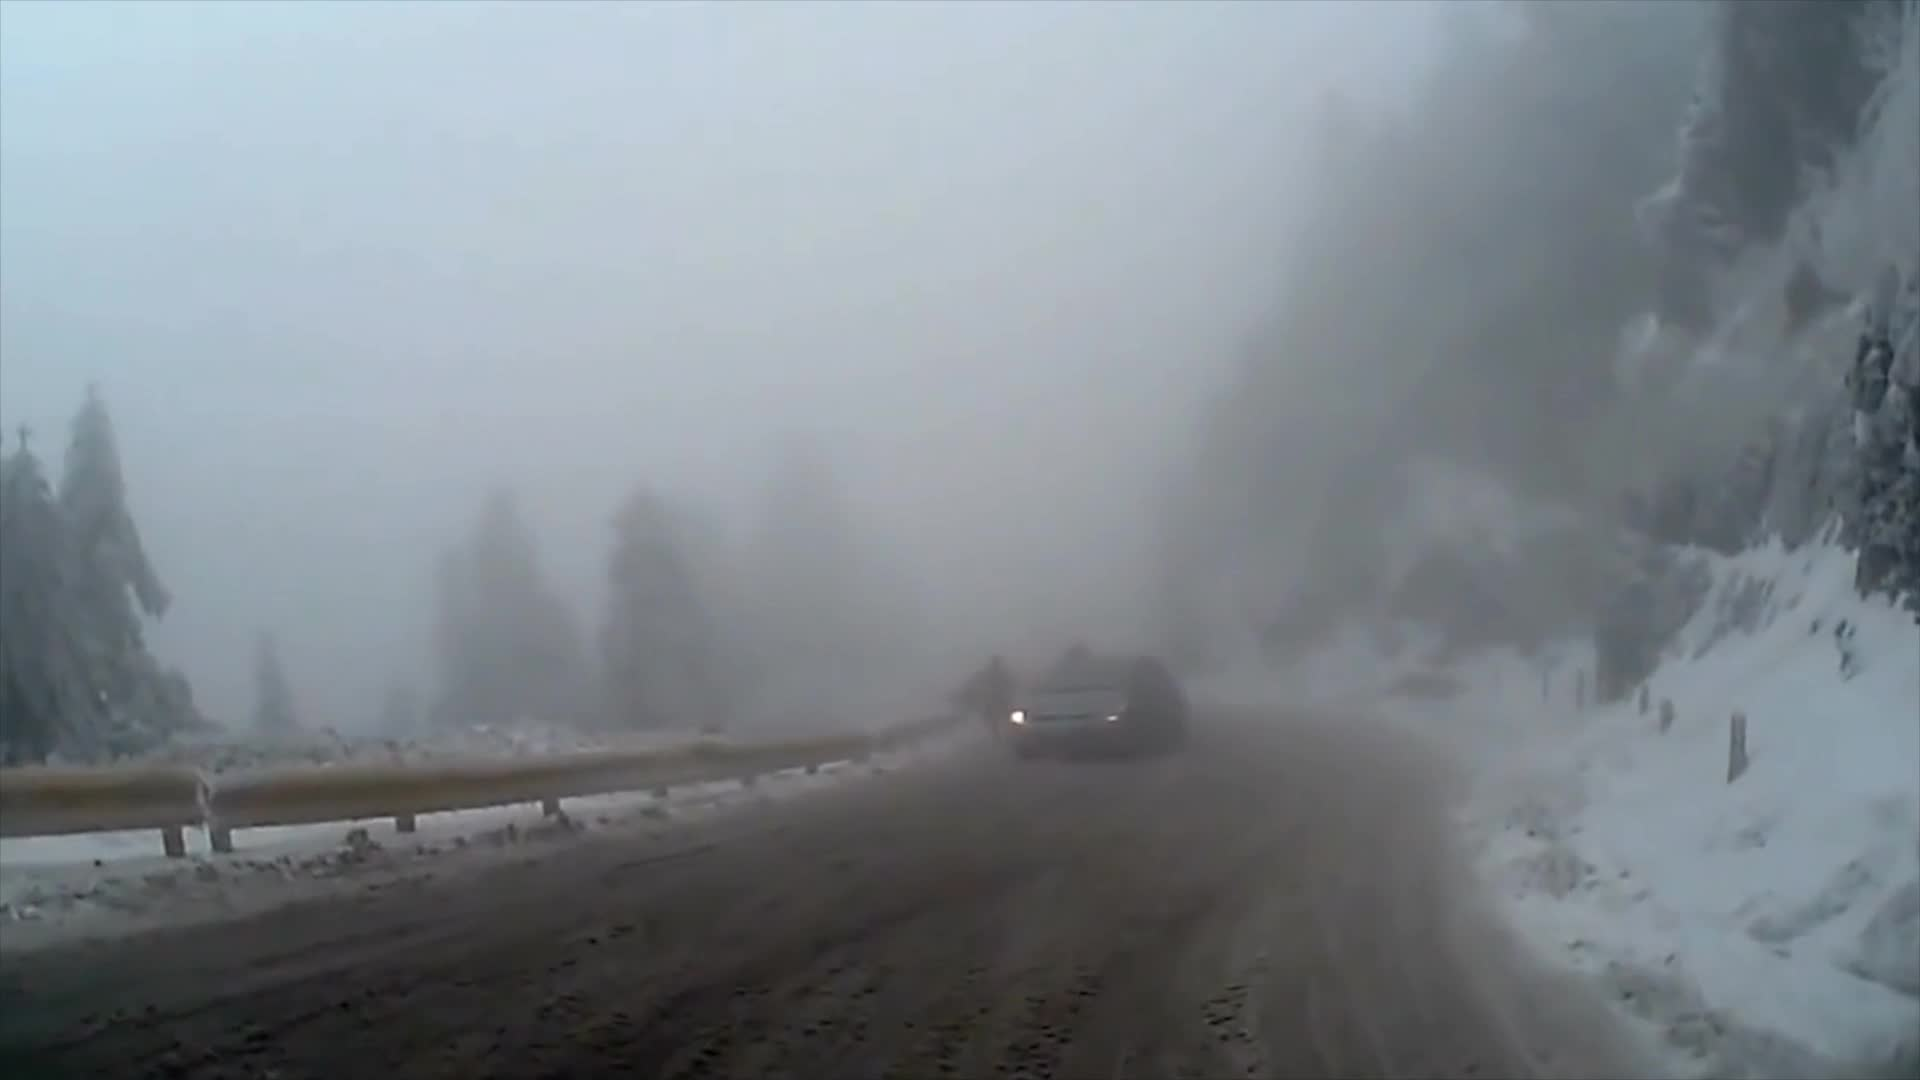vehicle: (1004, 651, 1188, 764)
